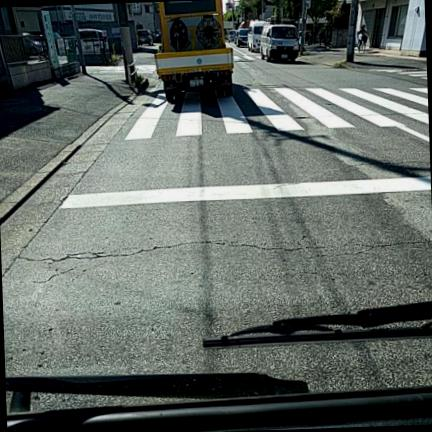Road: (0, 48, 431, 391)
